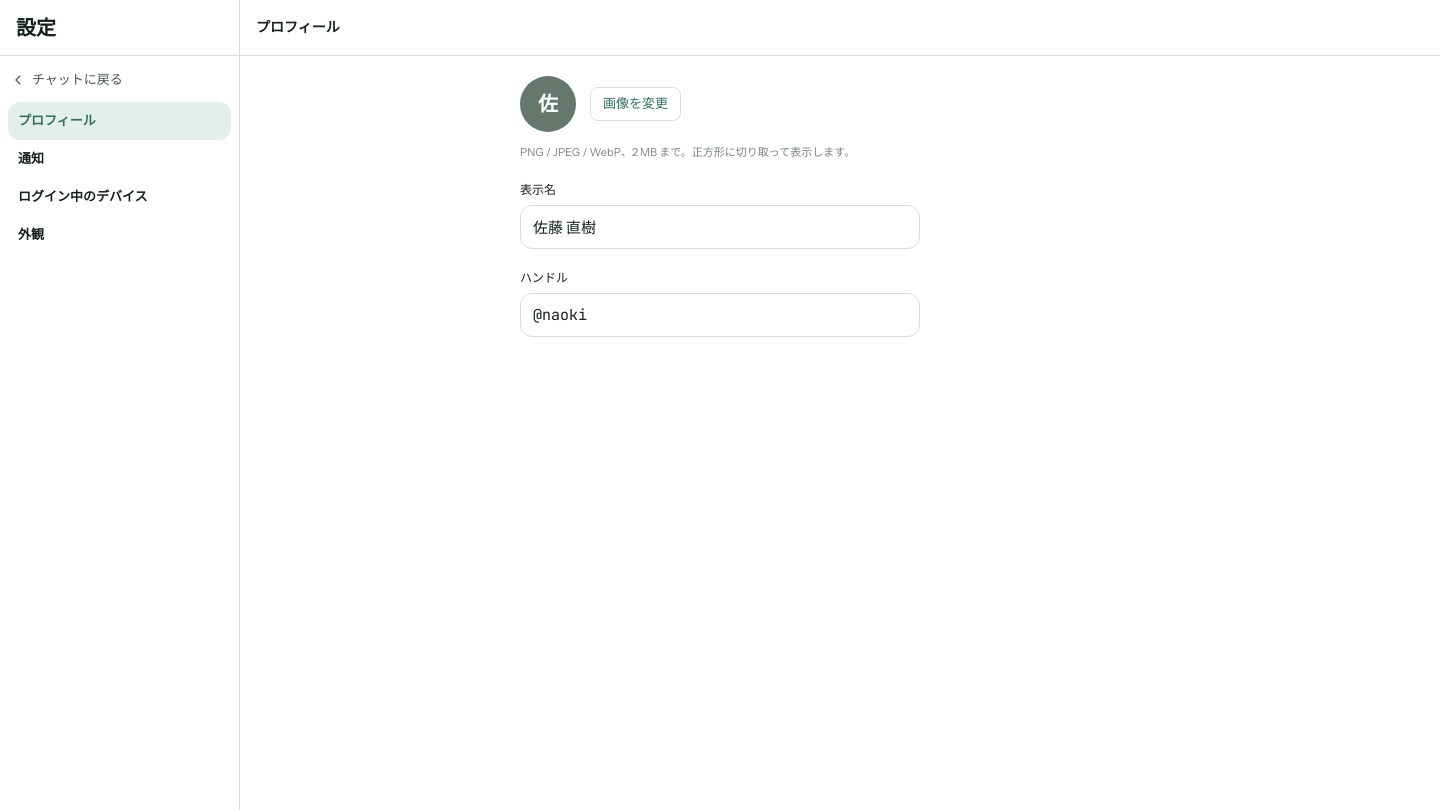
Scenario: the user settings screens › profile › puts the handle back when it is already taken
The image size is (1440, 810).
Type "x" into the field labelled "ハンドル".
click(720, 314); type("x")  # box [520,292,920,336]
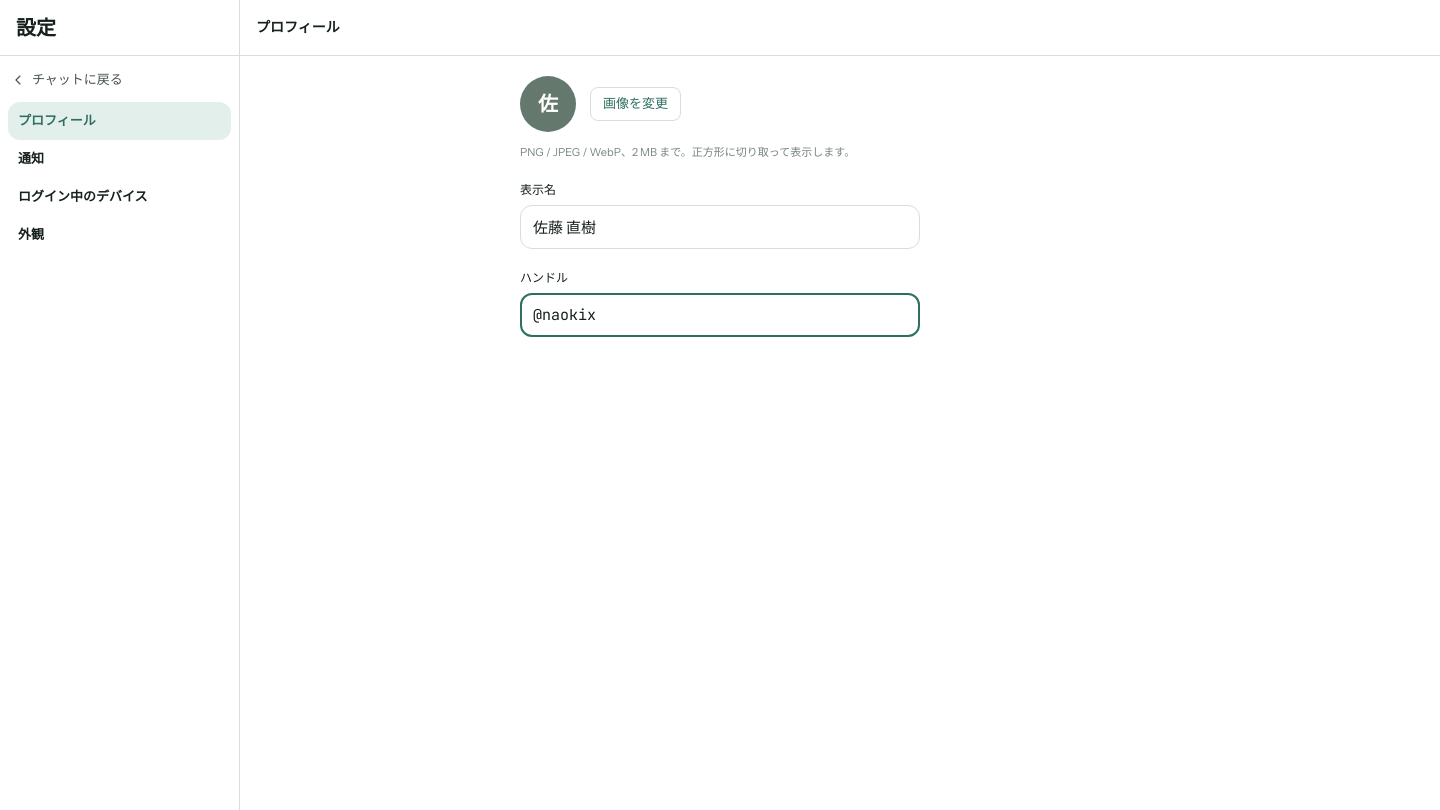
Press Tab
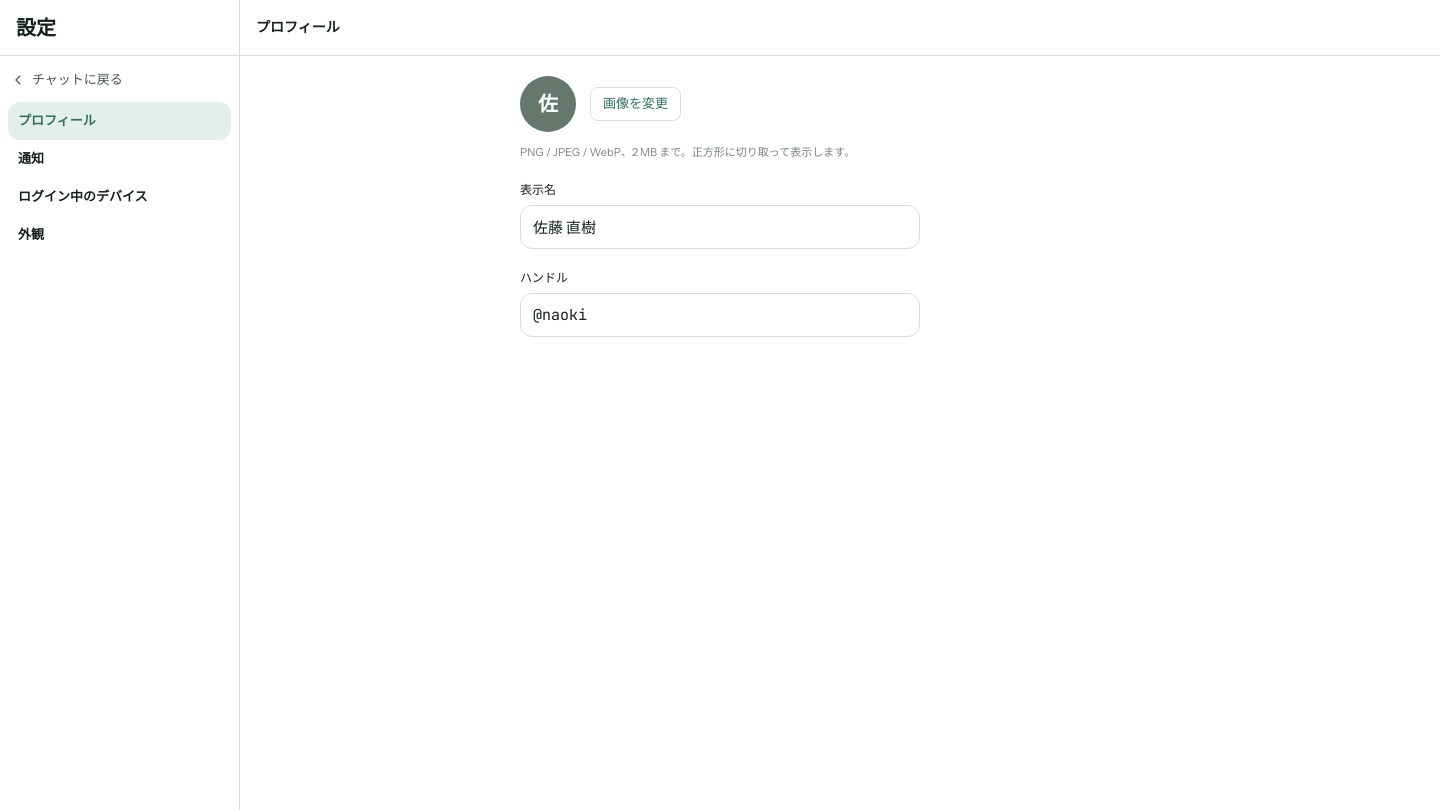
Expected: the field labelled "ハンドル" holds "@naoki", [520,292,920,336]
